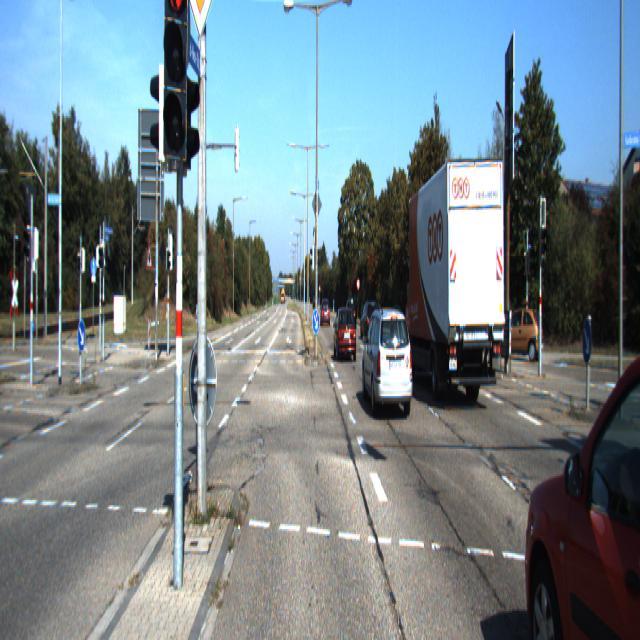Car: (520, 282, 640, 638), (401, 149, 507, 414), (362, 305, 415, 424), (496, 304, 544, 362), (334, 306, 356, 364), (359, 298, 378, 339)
